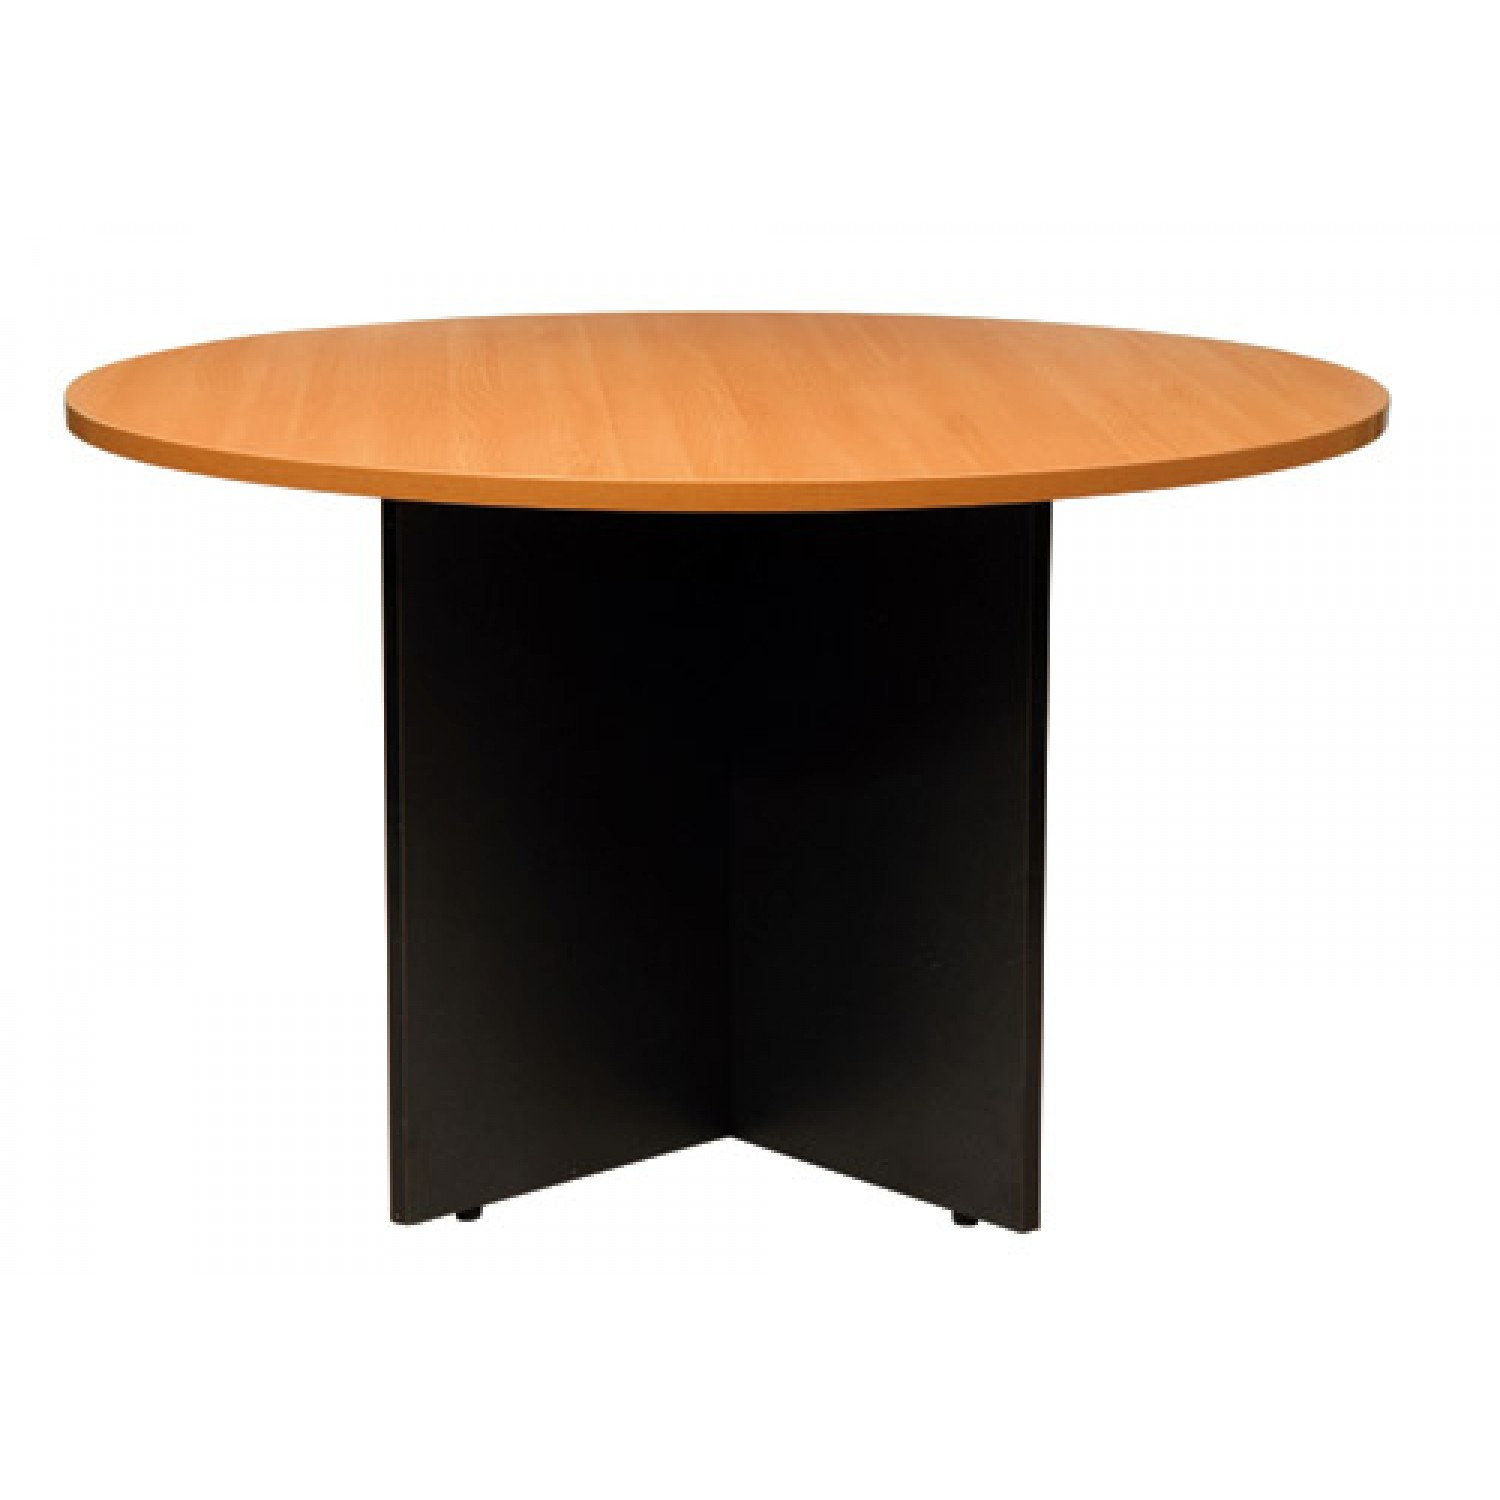conference_table: (70, 310, 1392, 1238)
